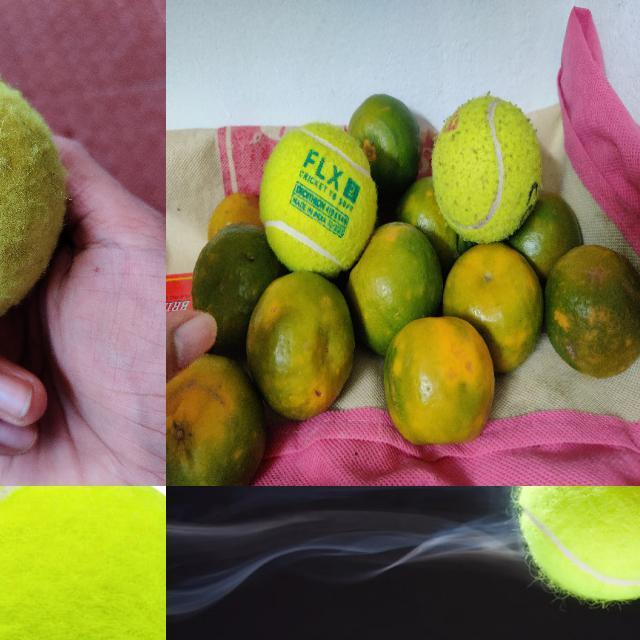tennis-ball: (0, 486, 165, 639), (0, 57, 68, 333), (430, 94, 543, 243), (516, 486, 639, 602), (259, 121, 353, 270)
